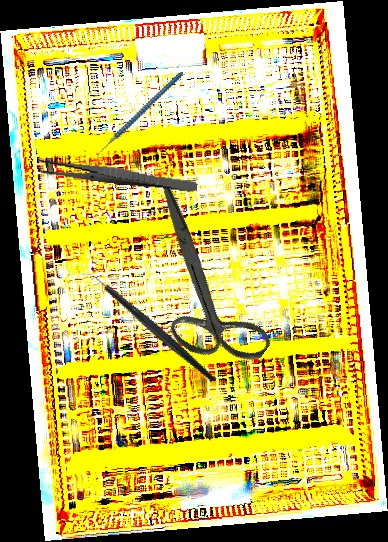Chopper: (77, 241, 218, 414), (75, 71, 203, 166)
Dressing Forceps: (38, 158, 199, 194)
Iris Scissors: (90, 176, 314, 388)
